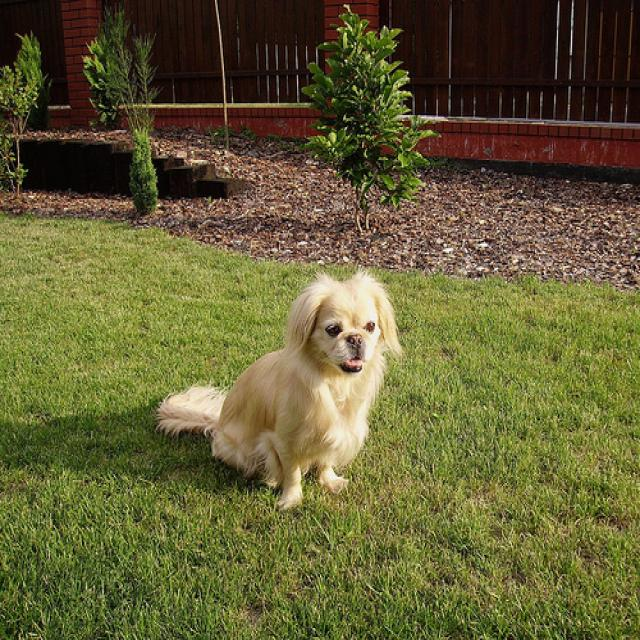dog: (283, 272, 399, 375)
